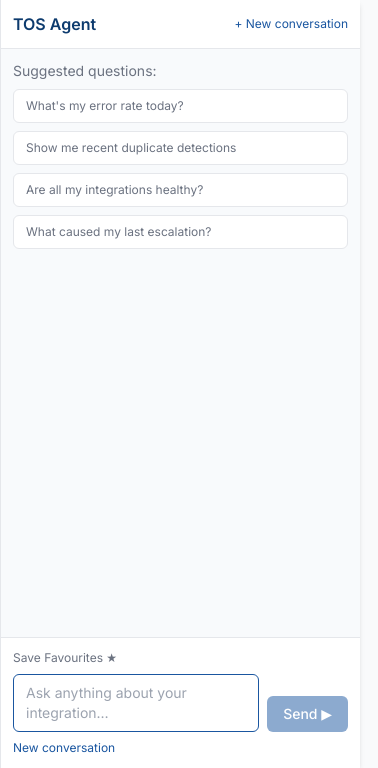
Test: Layer 4: AgentPanel › new conversation clears history
In the text box with placeholder "Ask anything about your integration…": (136,703) [13,674,259,732], type "hi"
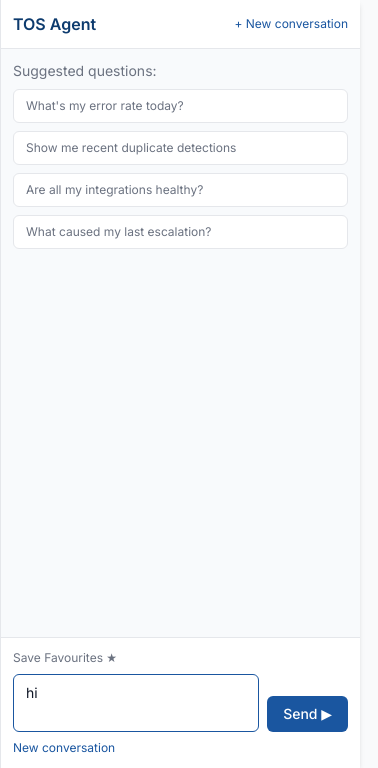
Click the button "Send ▶": (308,714) [267,696,348,732]
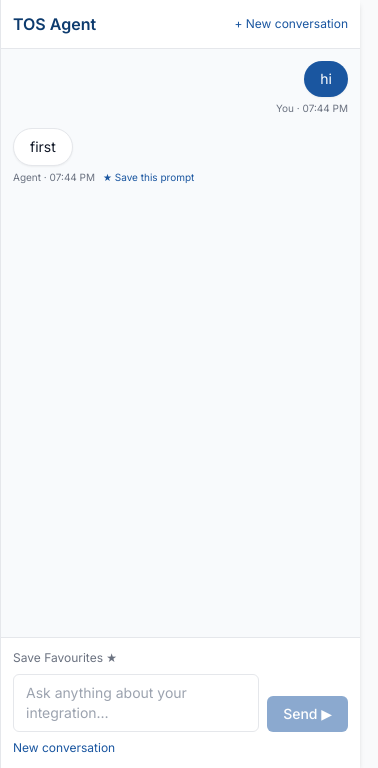
expect the text "first" is shown: met, box [30,137,56,157]
Click the button "+ New conversation": (291,24) [234,16,348,32]
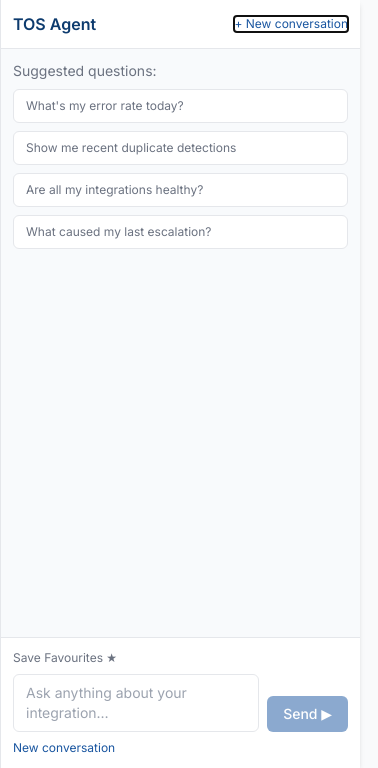
expect the text "first" is gone: met
